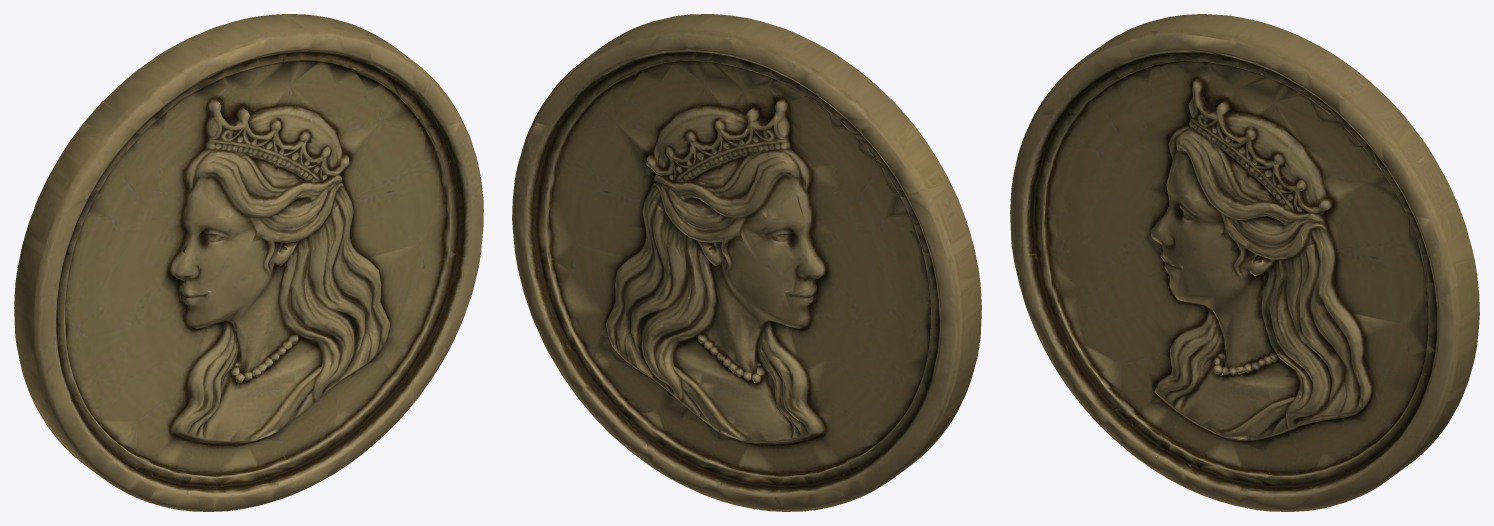
Rendered from medallion_queen.glb.
3 renders of one model, left to right at view 1: azimuth 30°, elevation 25°; view 2: azimuth 150°, elevation 25°; view 3: azimuth 330°, elevation 25°, orthographic.
Parts seen in each view (by area): view 1: Medallion_queen; view 2: Medallion_queen; view 3: Medallion_queen.
Part boxes in pixels (x1=…): Medallion_queen: x1=14, y1=14, x2=483, y2=511; Medallion_queen: x1=512, y1=14, x2=981, y2=511; Medallion_queen: x1=1010, y1=14, x2=1479, y2=511.
Bounding box in the file's own units: 0.06 × 0.0599 × 0.00726.
Materials: 1 (1 with a texture image).
